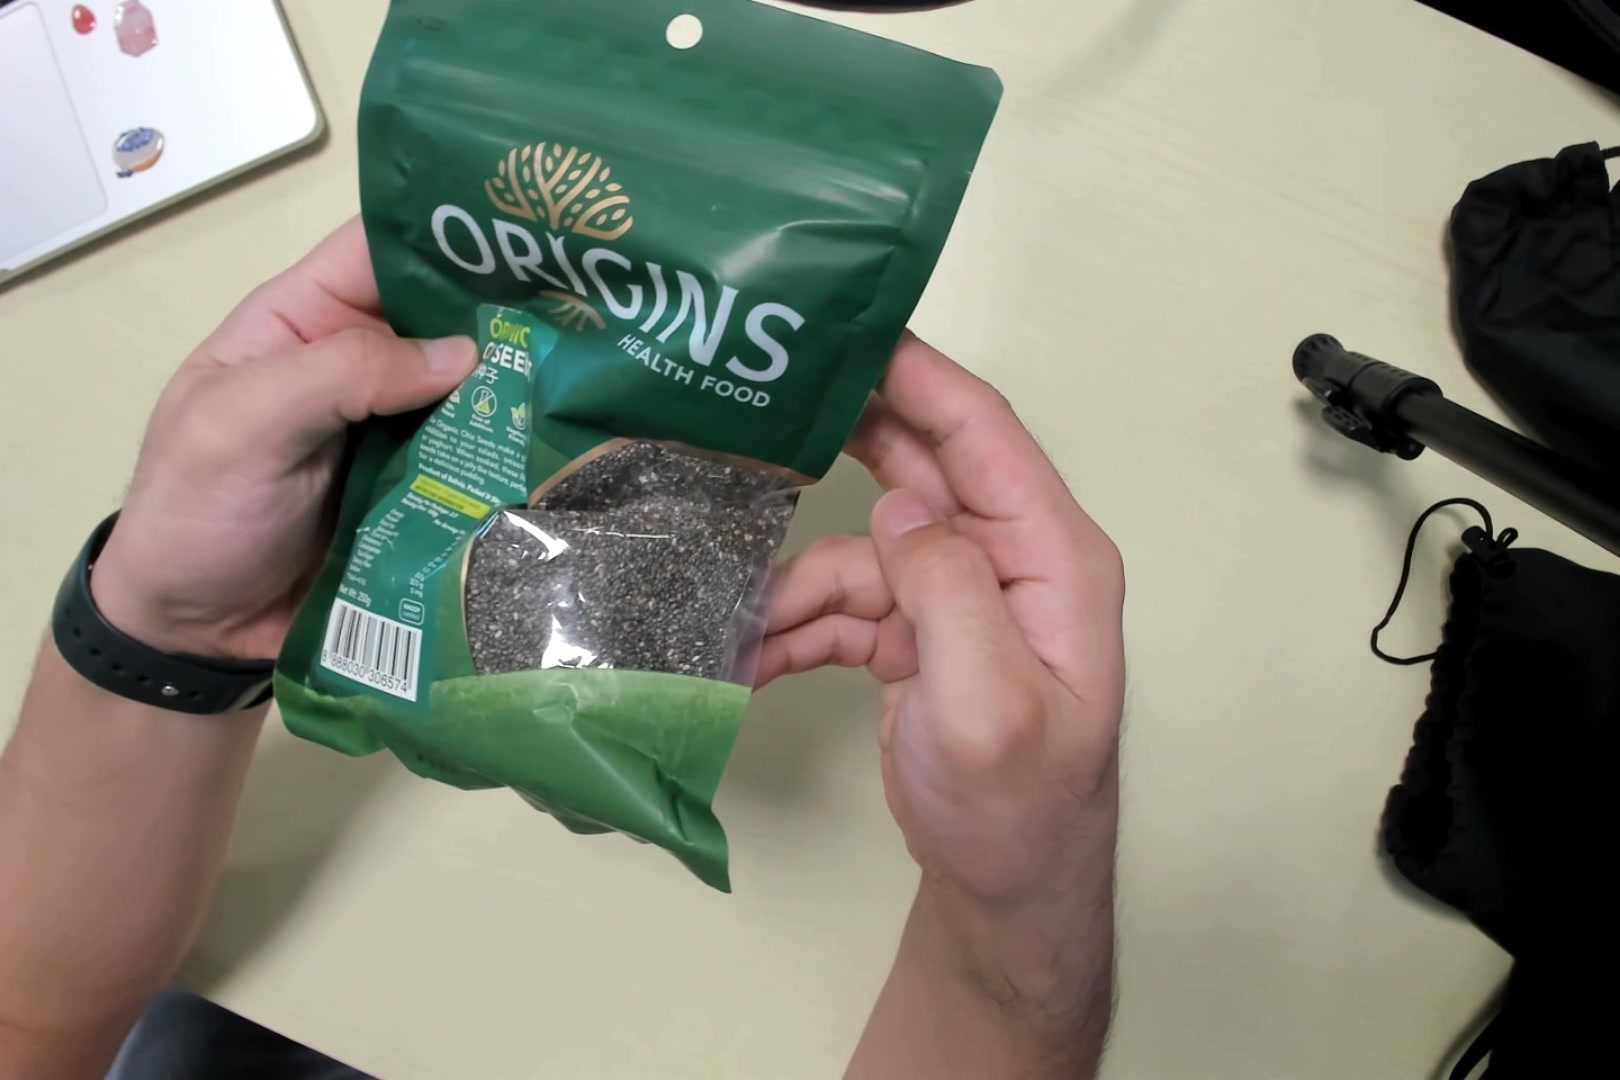OtherDriedFood_200-299g_NonHalal_NonHealthy: (280, 10, 963, 850)
